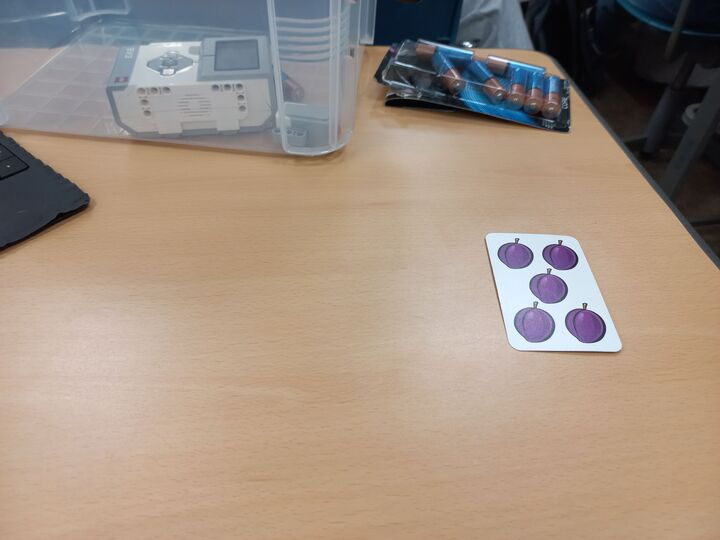plum5: (485, 232, 626, 356)
